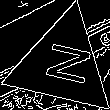N_W: (34, 39, 91, 90)
